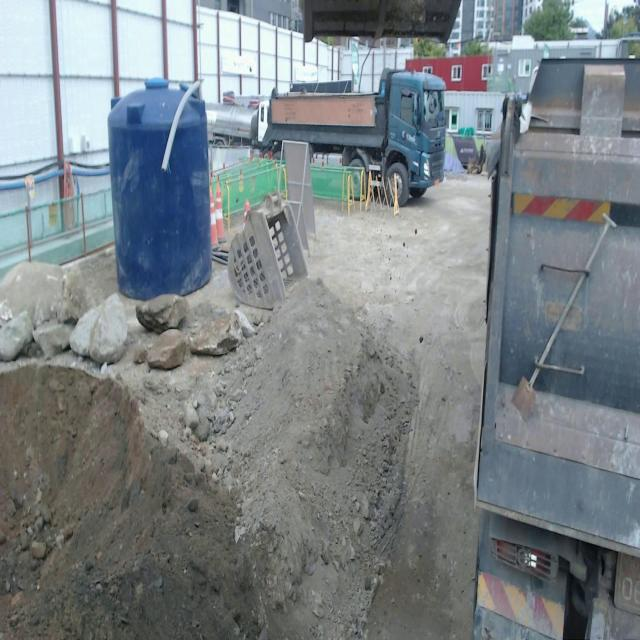stone: (0, 262, 95, 326), (69, 293, 128, 363), (186, 311, 243, 356), (136, 294, 189, 334), (146, 329, 187, 370), (0, 311, 33, 360), (33, 321, 74, 357)
white-sand: (0, 180, 489, 639)
